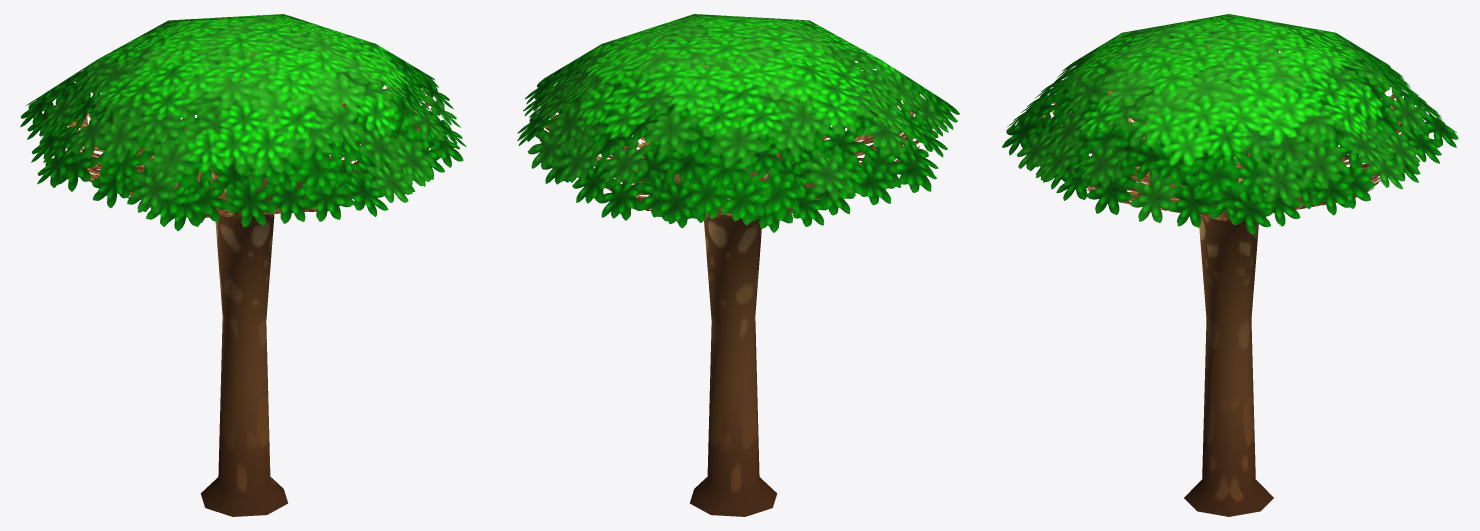
File: Tree_02b.FBX
3 renders of one model, left to right at view 1: azimuth 30°, elevation 25°; view 2: azimuth 150°, elevation 25°; view 3: azimuth 270°, elevation 25°, orthographic.
Parts seen in each view (by area): view 1: Tree_02b; view 2: Tree_02b; view 3: Tree_02b.
Part boxes in pixels (box(x1,y1,x2,y2)): Tree_02b: box(20, 14, 466, 516); Tree_02b: box(517, 14, 959, 516); Tree_02b: box(1002, 14, 1458, 516).
Bounding box in the file's own units: 71.83 × 75.6 × 71.83.
